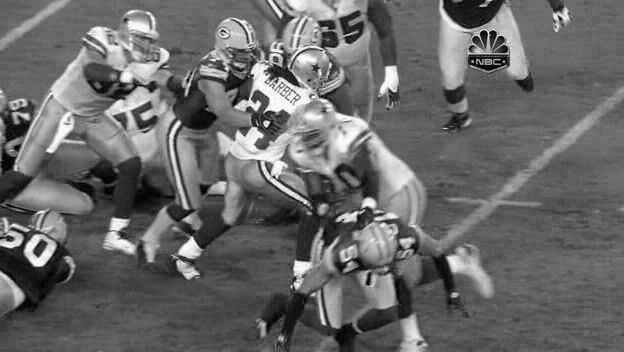person: (293, 49, 328, 94), (292, 49, 327, 94), (294, 49, 329, 94), (293, 48, 328, 93), (293, 50, 328, 95)
target_negative: (432, 71, 557, 301), (195, 200, 516, 255), (550, 165, 591, 341), (540, 23, 568, 275), (112, 282, 170, 290), (129, 338, 202, 341)
